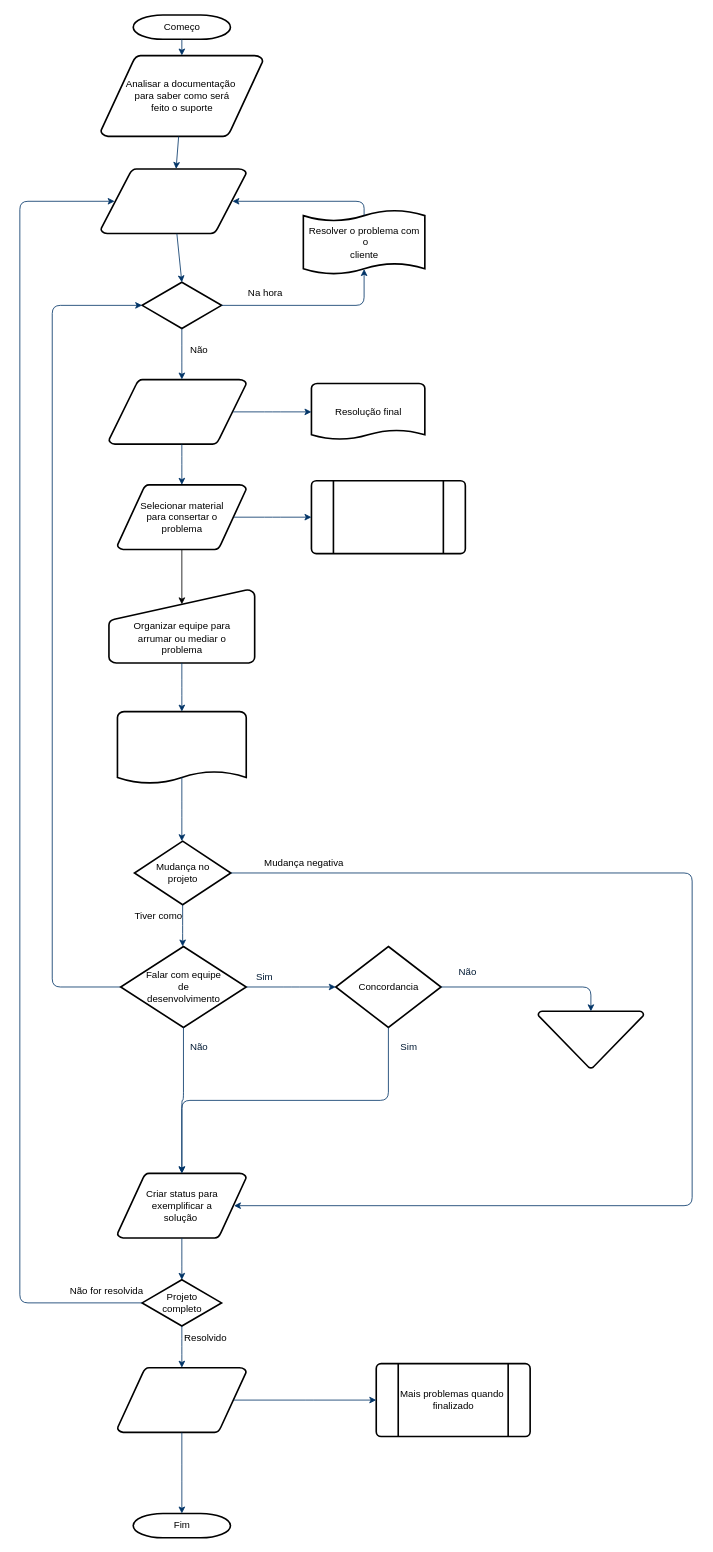
The diagram is 713 pixels wide and 1552 high, and some of its shapes have lost their labels. The shapes that lost their labels are listed below. From the top down, each one's box as (x1, y1, x2, y2) in pixels, then its label:
(100, 168, 247, 234): Inspecionar o problema que está ocorrendo
(141, 281, 222, 329): Problema
(108, 378, 247, 445): Criar um programa ou resolução para o problema
(310, 480, 466, 554): Balanço do material
(116, 710, 247, 785): Criar programa ou diagrama para solucionar o problema
(537, 1010, 644, 1068): Terminar projeto
(116, 1366, 247, 1433): Criar Chamado final
